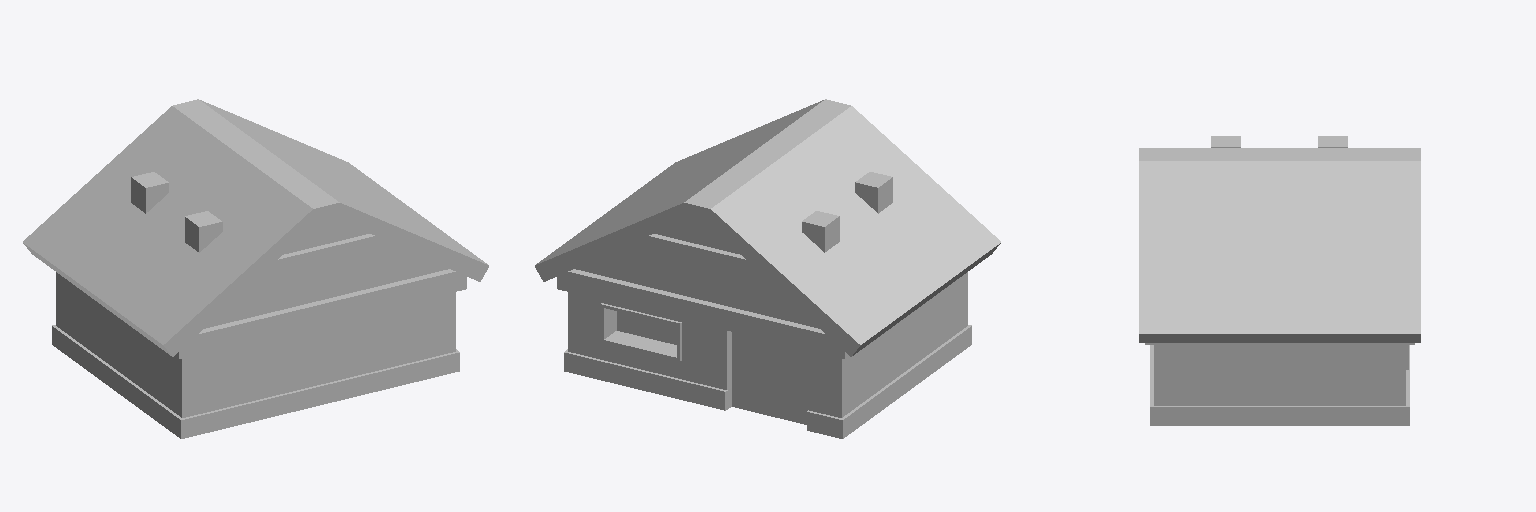
Rendered from house_01.obj.
3 views of the same model, side by side, from view 1: azimuth 30°, elevation 25°; view 2: azimuth 150°, elevation 25°; view 3: azimuth 270°, elevation 25° (orthographic).
Visible parts, largest first — view 1: Cube_Cube.001; view 2: Cube_Cube.001; view 3: Cube_Cube.001.
Boxes of the visible parts, box(x1,y1,x2,y2) form: Cube_Cube.001: box(23, 99, 488, 438); Cube_Cube.001: box(535, 99, 1000, 438); Cube_Cube.001: box(1139, 136, 1420, 425).
Size of the model in its own units: 3.35 by 2 by 2.51.